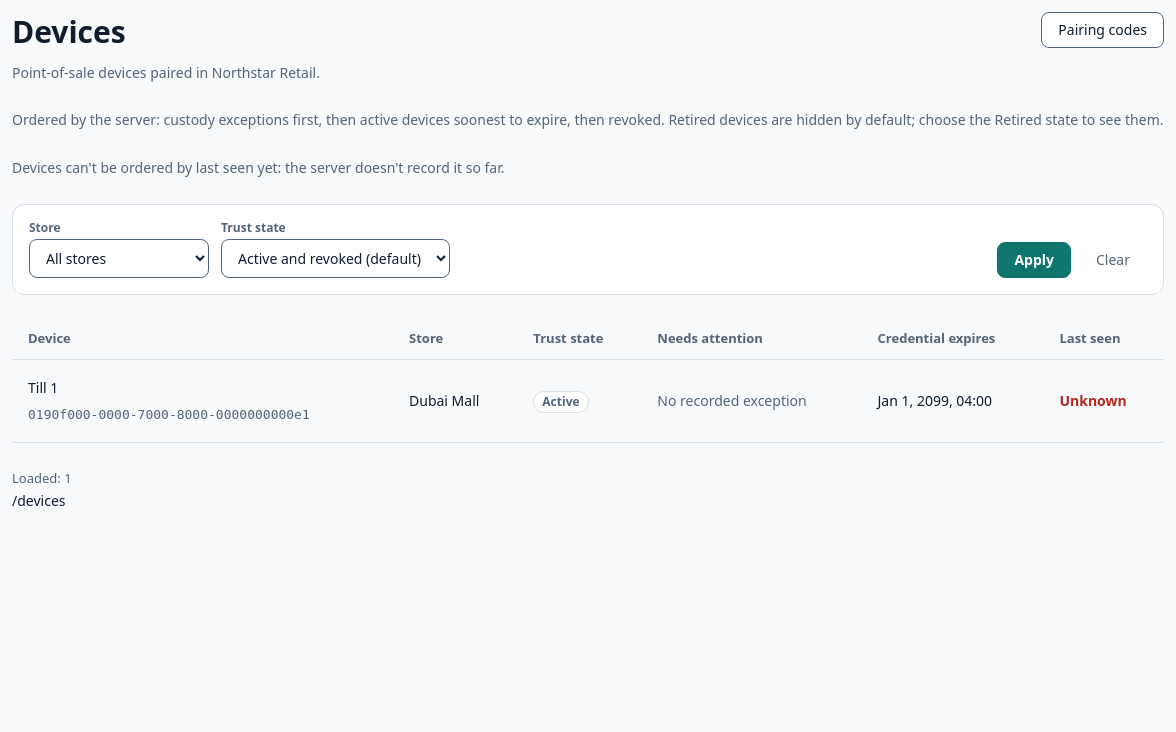
Scenario: DeviceList (RT-371) › the trust state filter includes retired and sends it to the server
Select "Retired" in the dropdown labelled "Trust state": (336, 259) [221, 239, 450, 278]
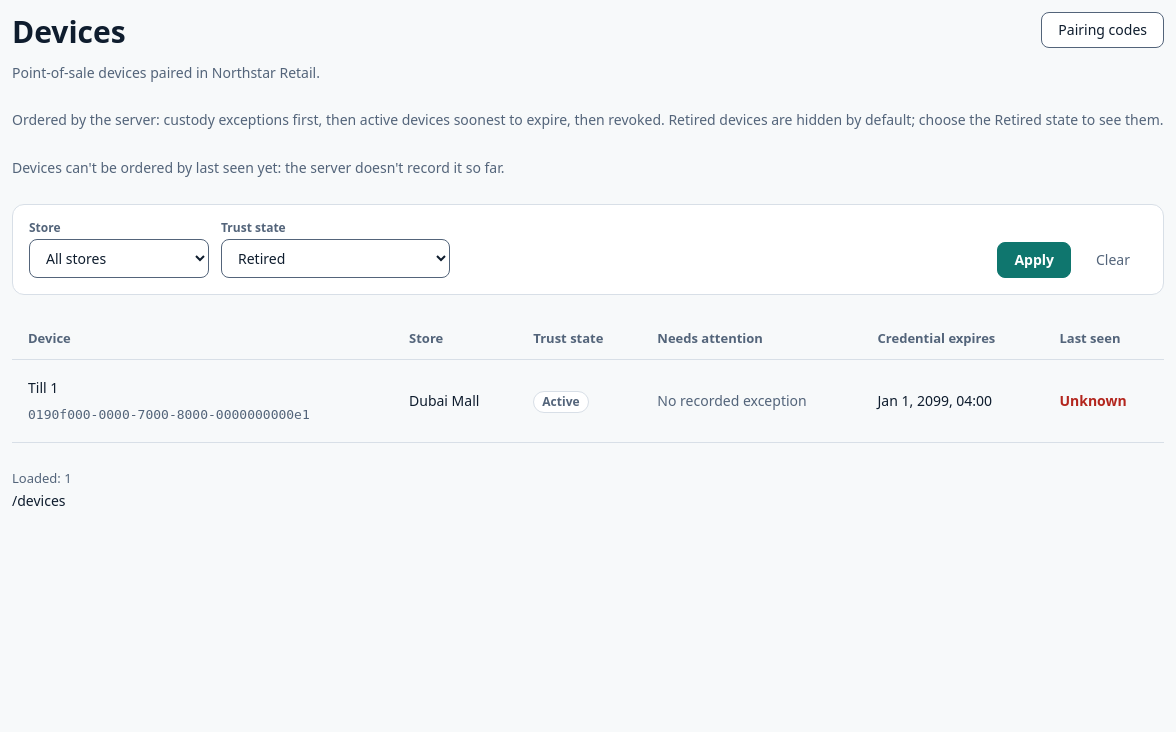
Click the button "Apply": click(1034, 260) [997, 242, 1071, 278]
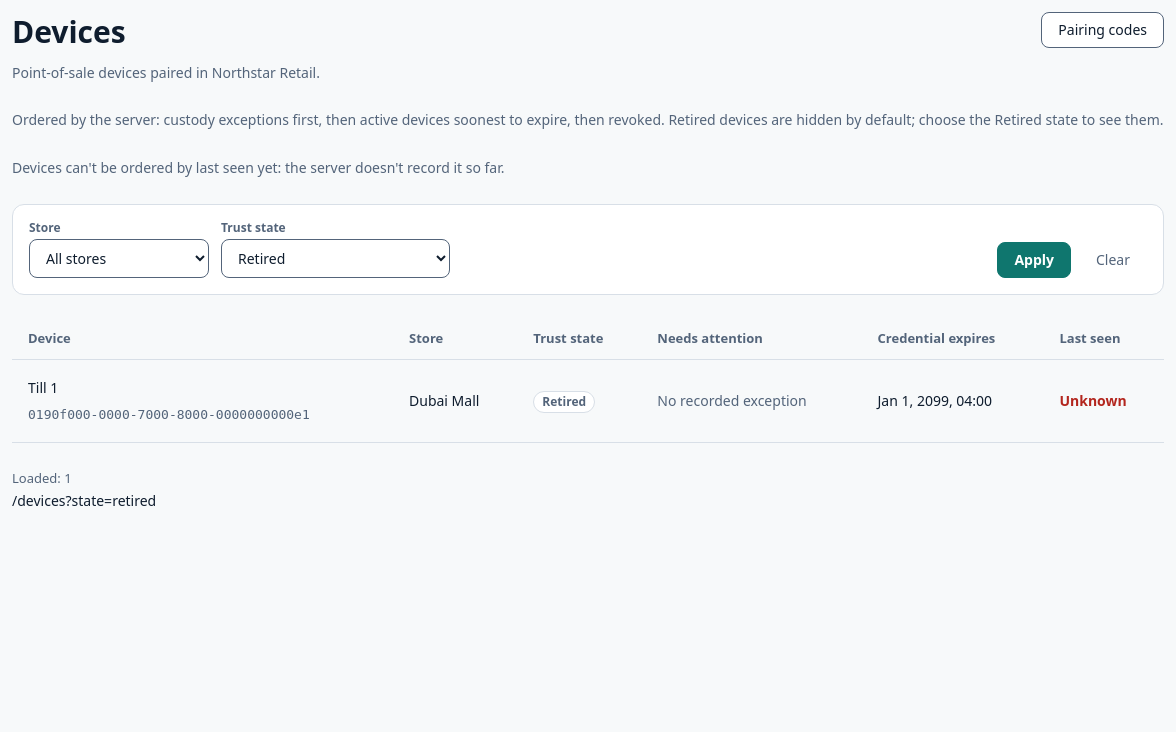
Now the text with test id "location" reads "/devices?state=retired", box [12, 491, 156, 510]
